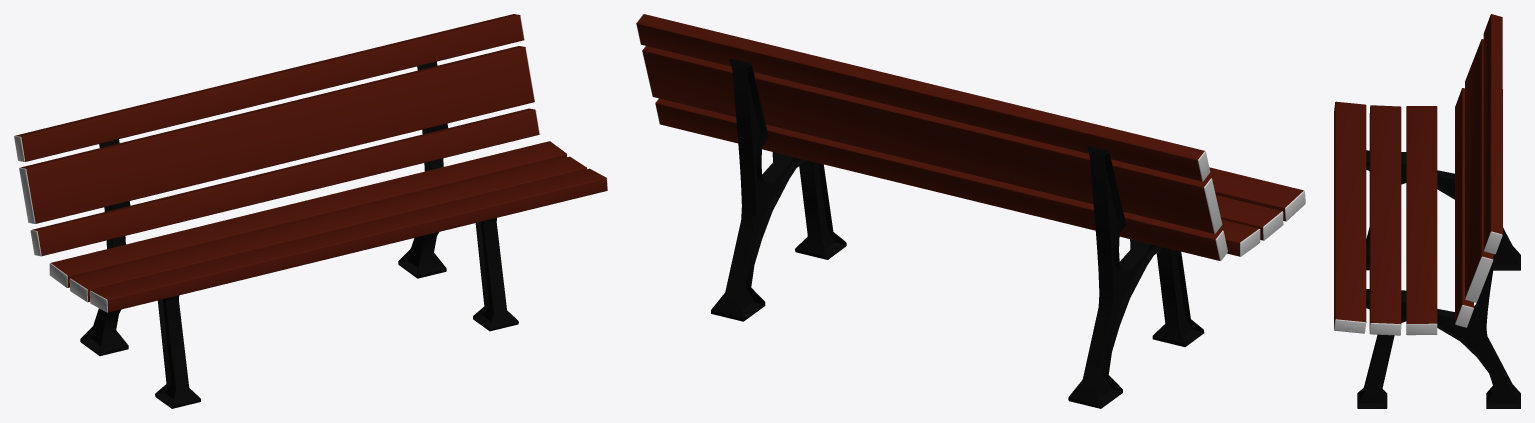
The picture shows the model from 3 angles, left to right: view 1: azimuth 30°, elevation 25°; view 2: azimuth 150°, elevation 25°; view 3: azimuth 270°, elevation 25°; orthographic projection. The views are drawn at different scales.
Parts seen in each view (by area): view 1: Cube.002 (×2), Cube.001; view 2: Cube.002 (×2), Cube.001; view 3: Cube.002 (×2), Cube.001.
Boxes of the visible parts, left/top/right/bottom form: Cube.002 (×2): left=14, top=14, right=607, bottom=312; Cube.001: left=80, top=61, right=518, bottom=408; Cube.002 (×2): left=636, top=14, right=1305, bottom=260; Cube.001: left=711, top=58, right=1204, bottom=408; Cube.002 (×2): left=1334, top=14, right=1502, bottom=335; Cube.001: left=1357, top=150, right=1520, bottom=408.
Size of the model in its own units: 2 by 0.8992 by 0.723.
